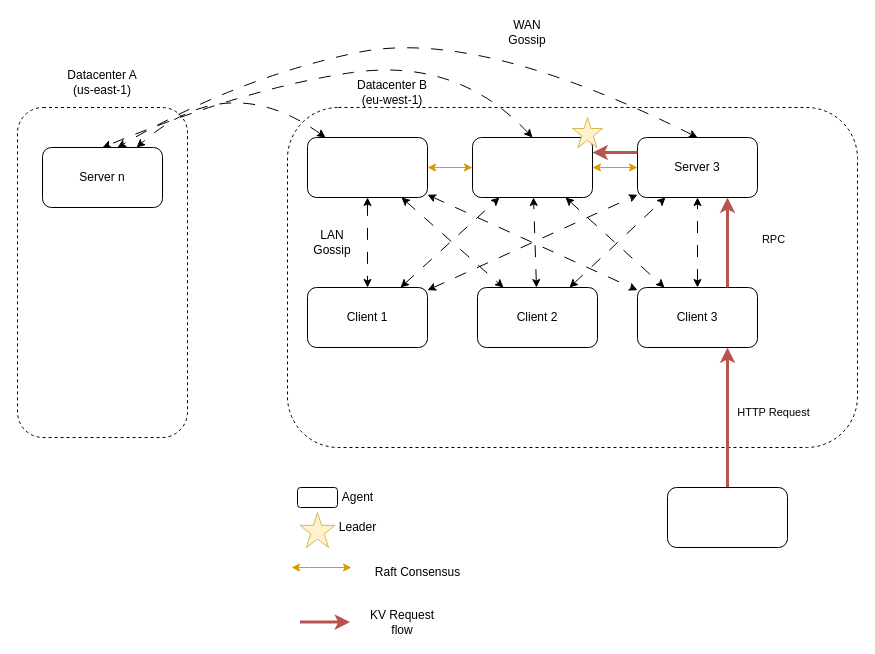
The diagram is 875 pixels wide and 654 high, and some of its shapes have lost their labels. Each missing label, with the centre of its shape:
Application: the point at 727,517
Server 1: the point at 367,167
Server 2: the point at 532,167
